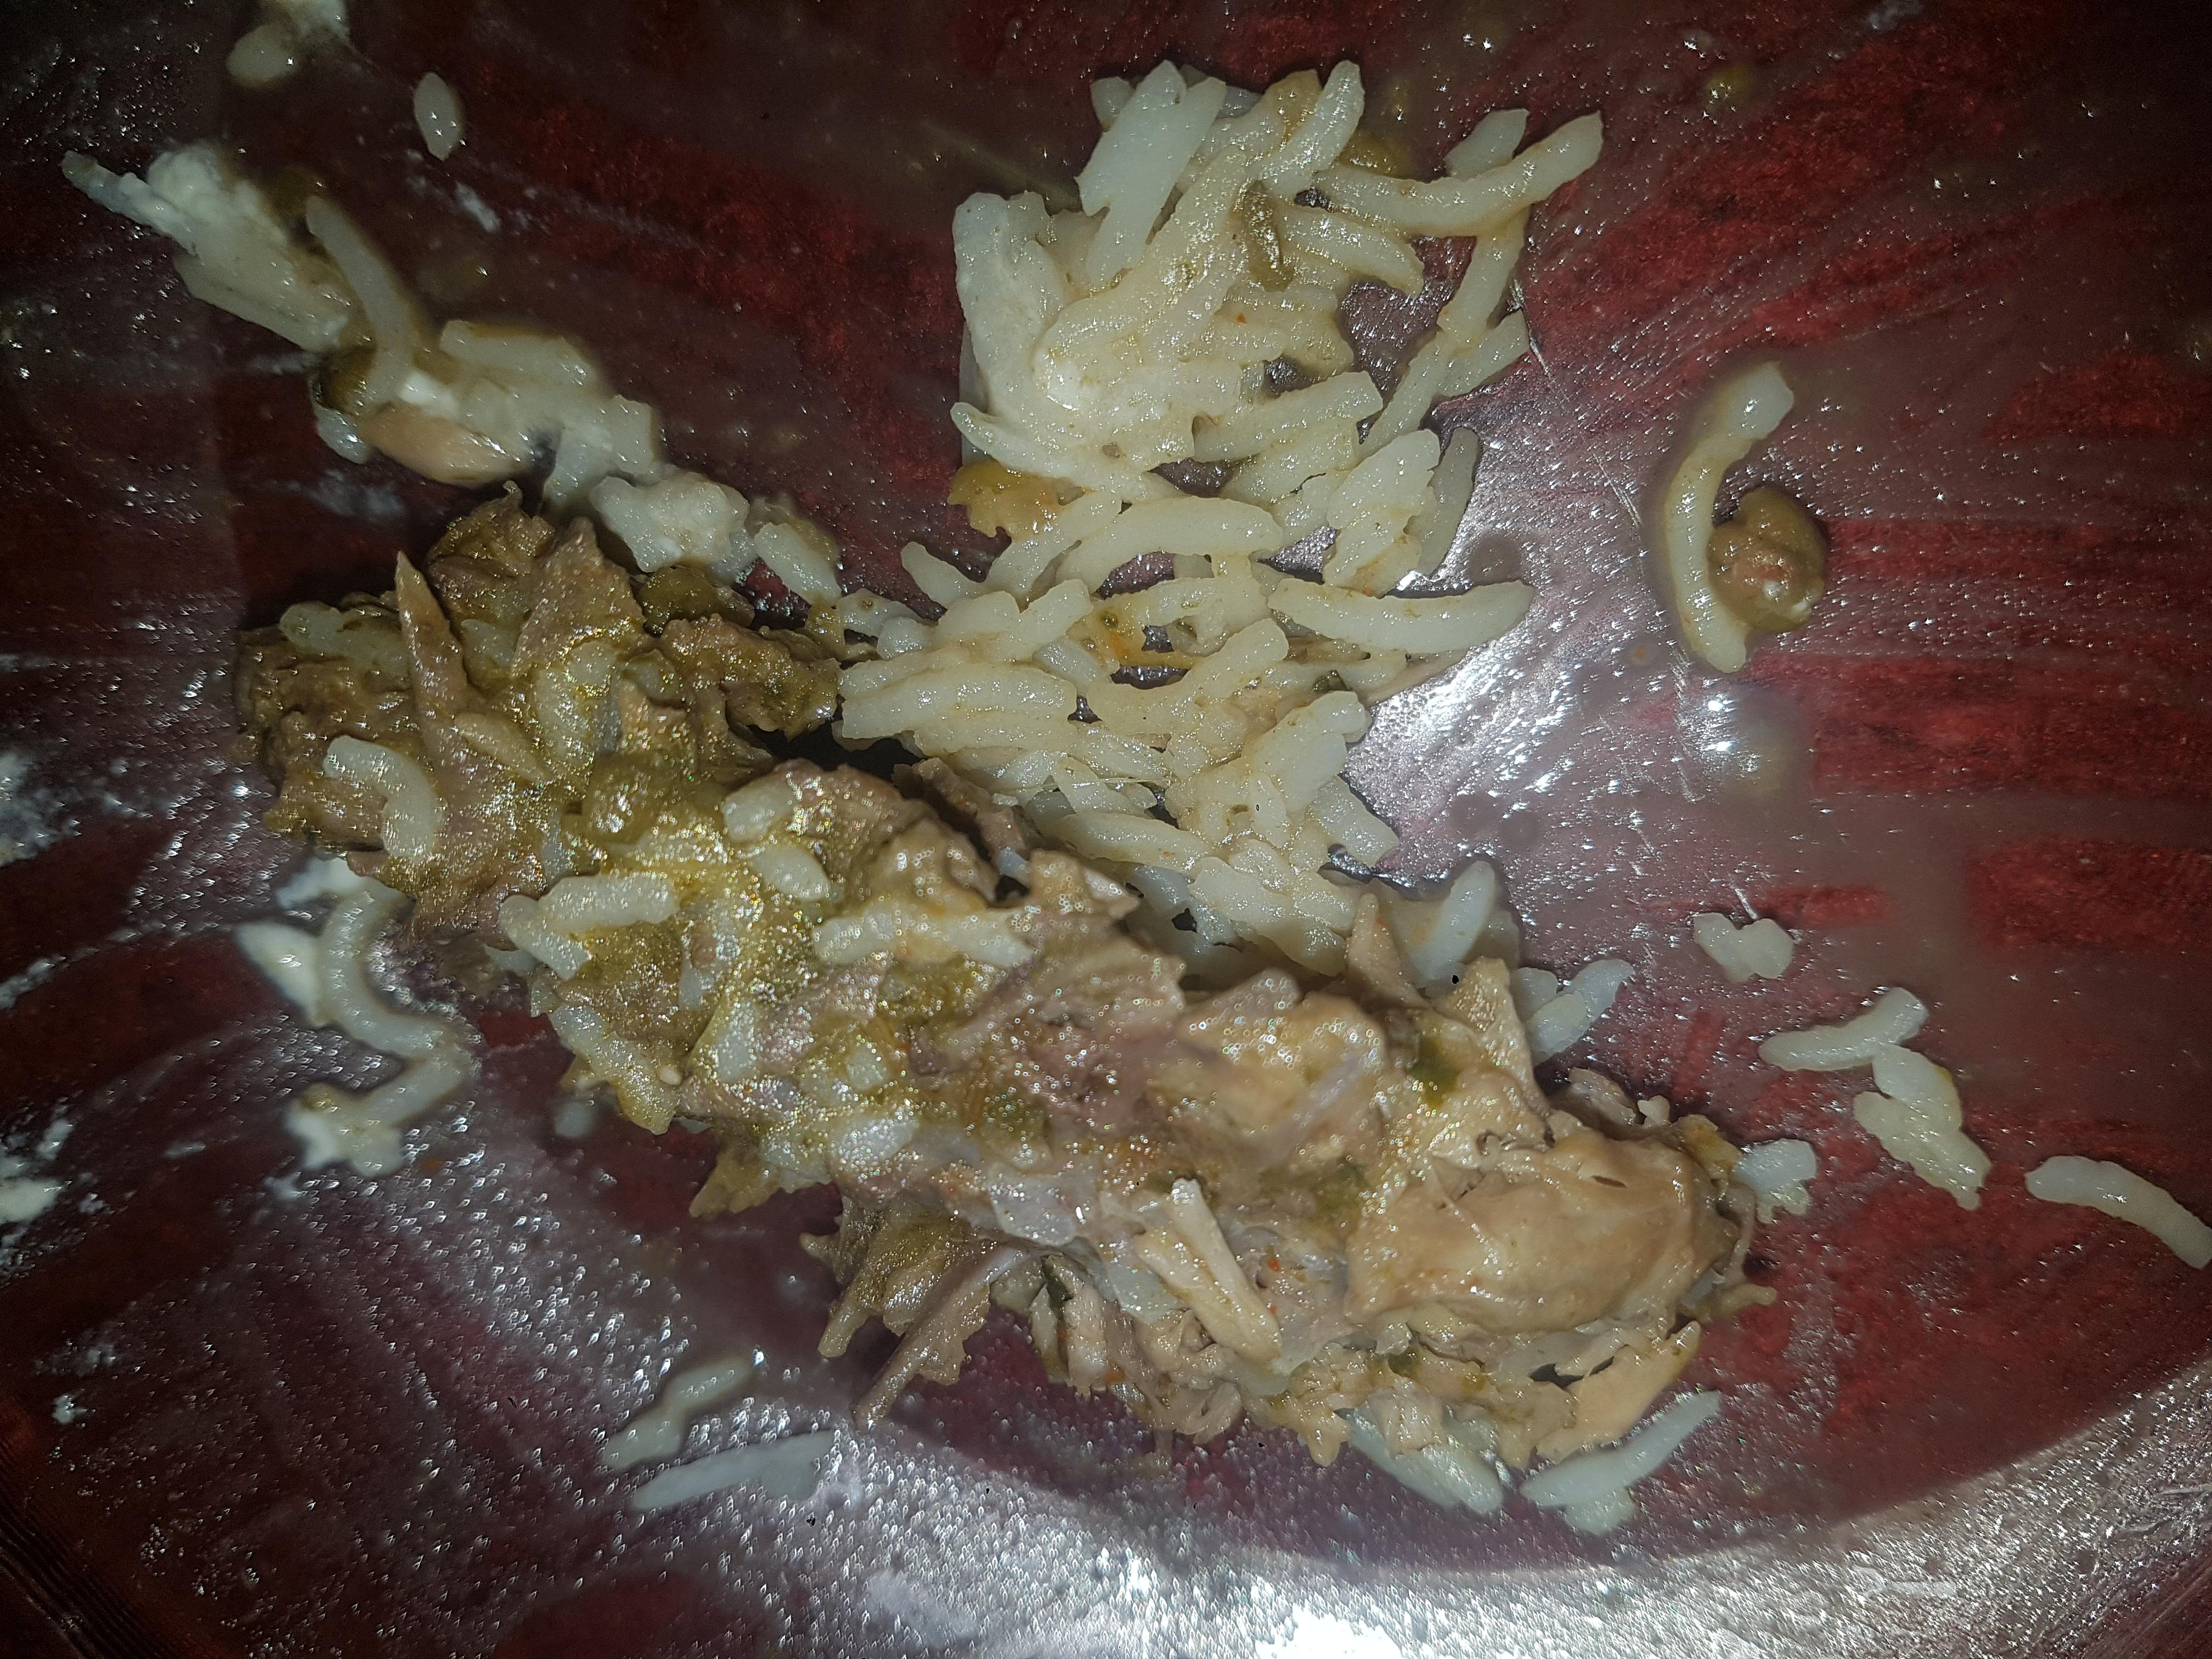organic: (0, 110, 1876, 1591)
